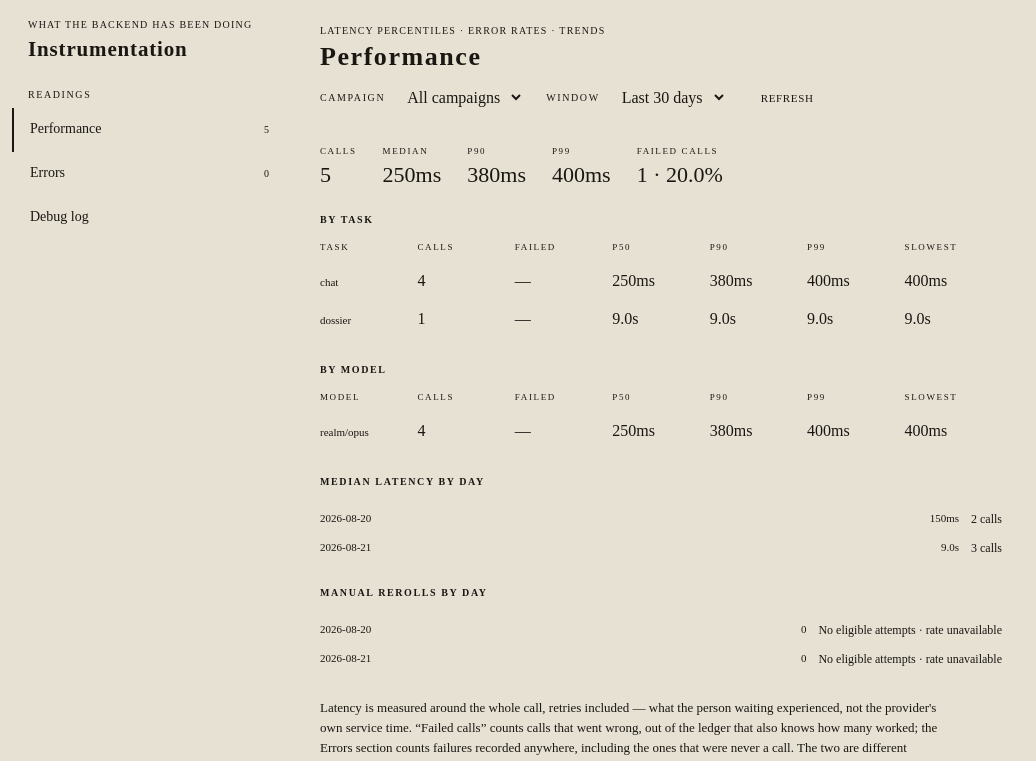
says nothing has gone wrong rather than drawing an empty table
Expected: the heading "Performance" is shown, [320,42,482,70]
Step 1. Click the button "Errors 0" → (48, 173), box [12,152,286,196]
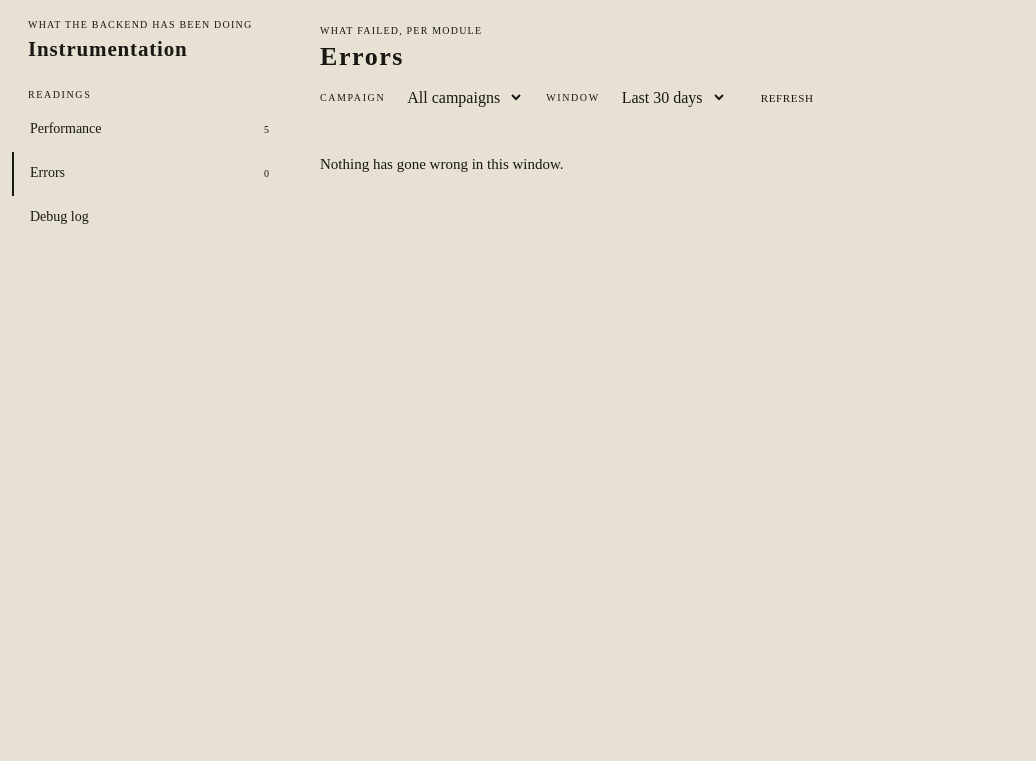
Now the text "Nothing has gone wrong in this window." is shown, box [320,156,564,172]
